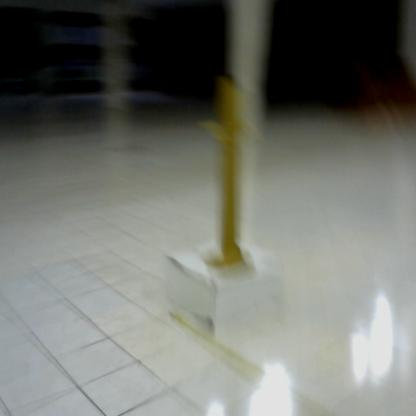pole: (196, 68, 265, 291)
